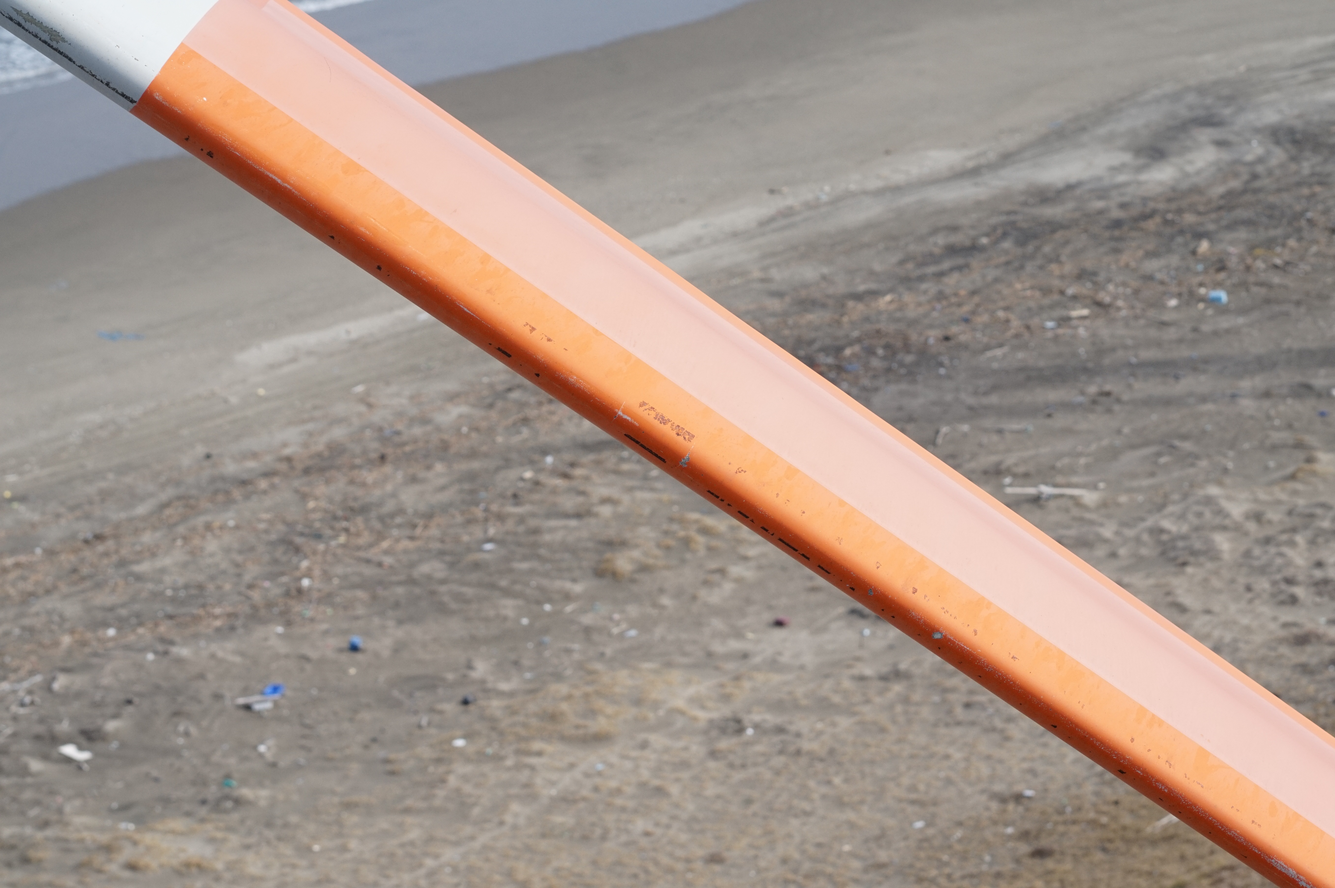Damage: (11, 2, 71, 51), (927, 623, 949, 644)
